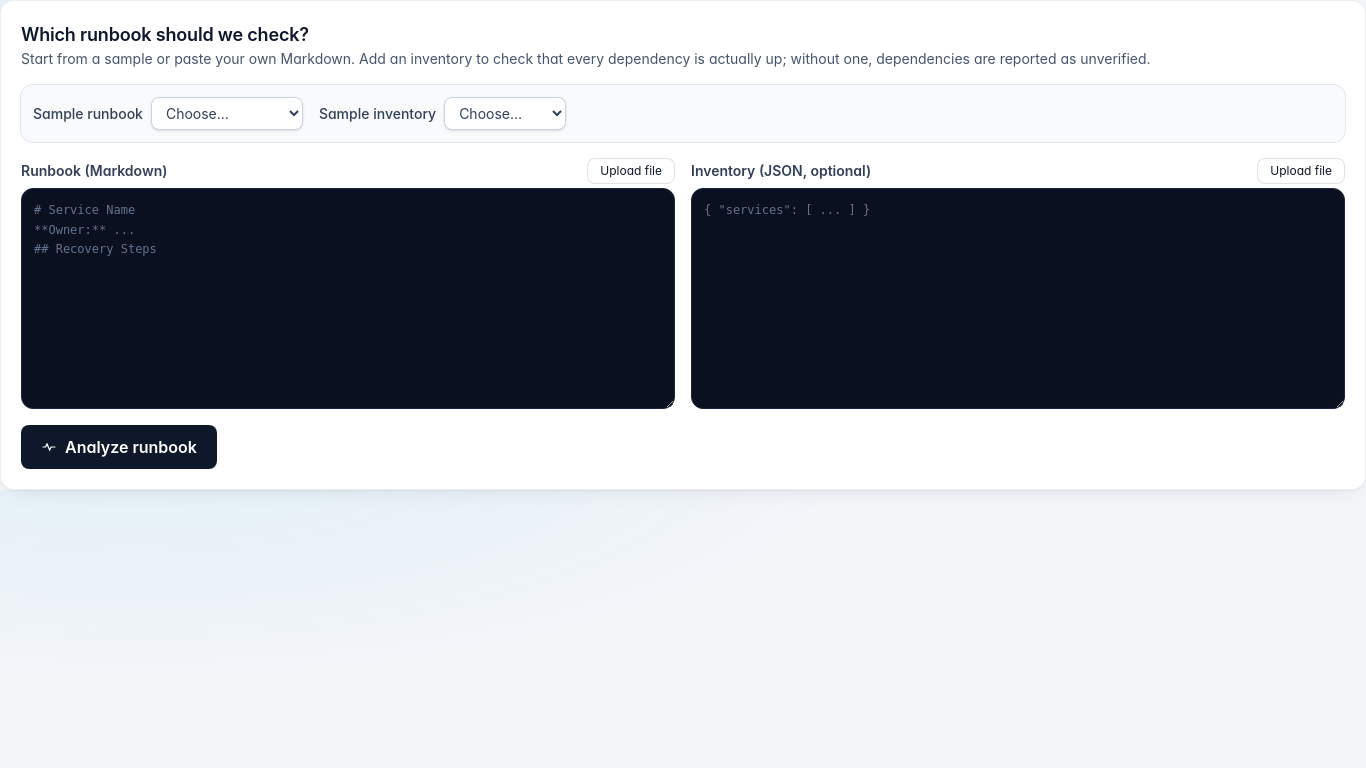
Test: InputPanel › requires a runbook
Click the button "Analyze runbook": (119,447) [21, 425, 217, 469]
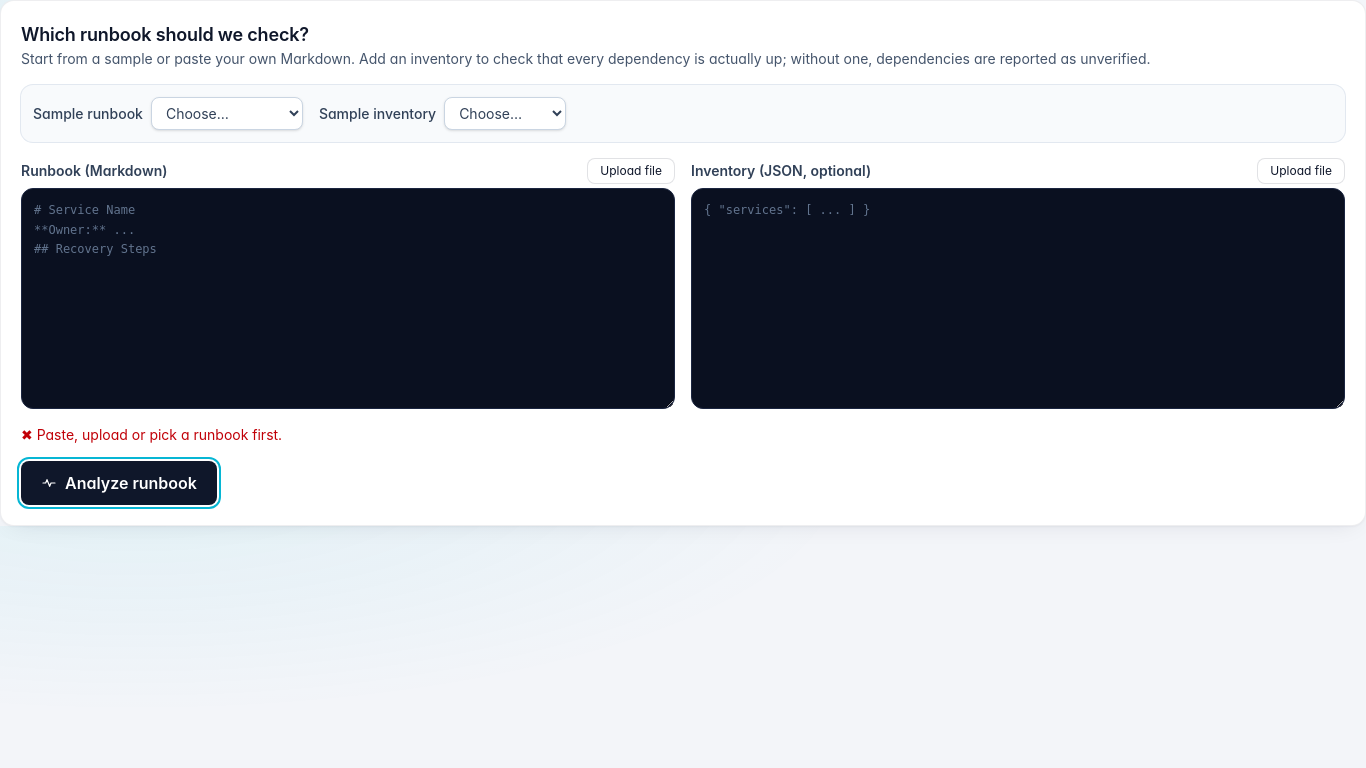
Result: the message shows "Paste, upload or pick a runbook first." at [37, 426, 282, 443]
